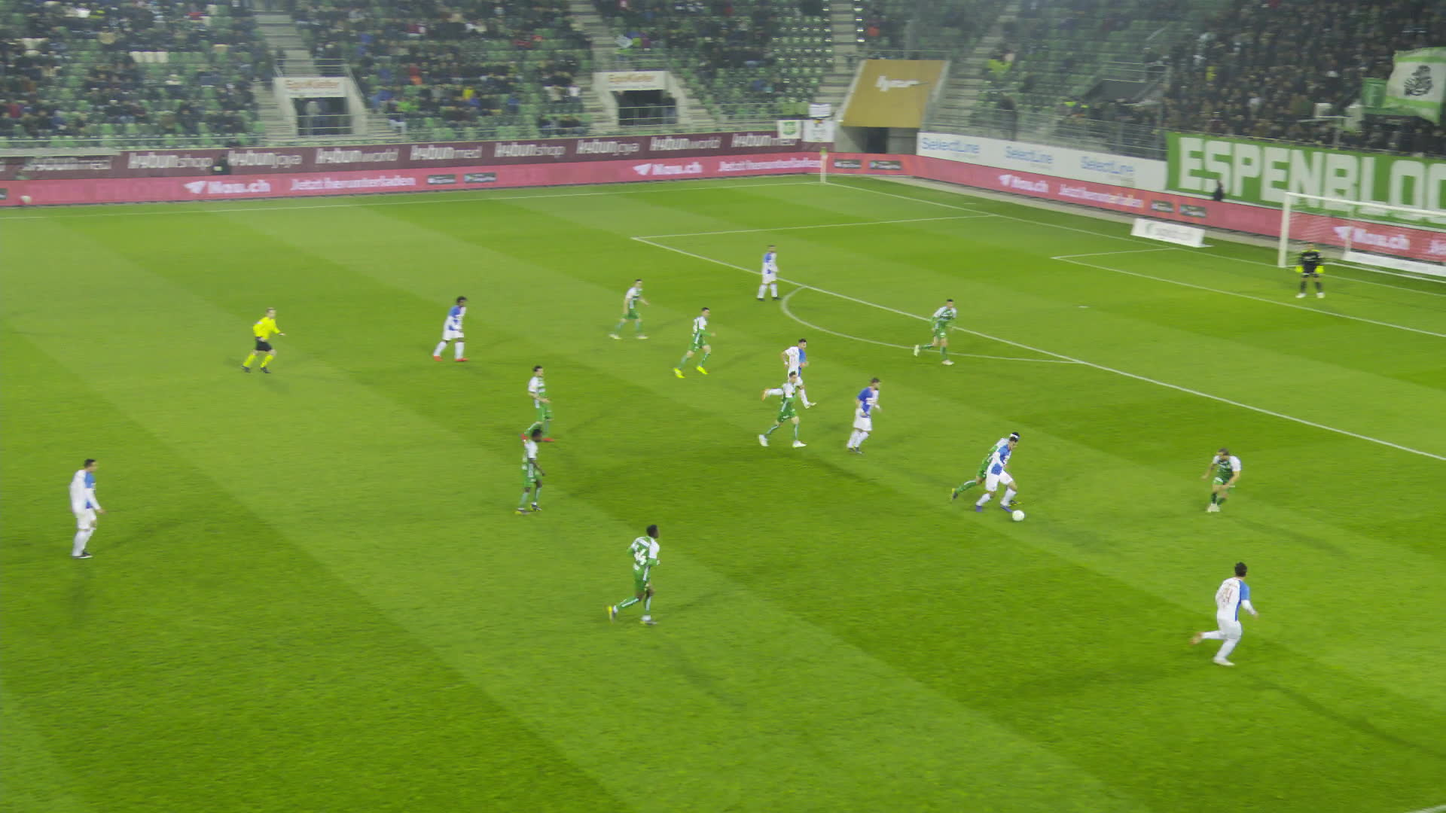ball: (1011, 507, 1023, 521)
player: (1185, 559, 1261, 667), (609, 526, 664, 627), (63, 457, 113, 558), (960, 430, 1020, 507), (966, 438, 1025, 515), (770, 336, 818, 417), (673, 306, 723, 376), (843, 376, 887, 455), (761, 372, 806, 449), (1198, 443, 1245, 516), (514, 429, 549, 513), (916, 299, 955, 364), (435, 295, 469, 362), (609, 279, 646, 340), (525, 363, 553, 442), (1298, 242, 1334, 302), (755, 244, 782, 301)
referee: (241, 306, 283, 376)
